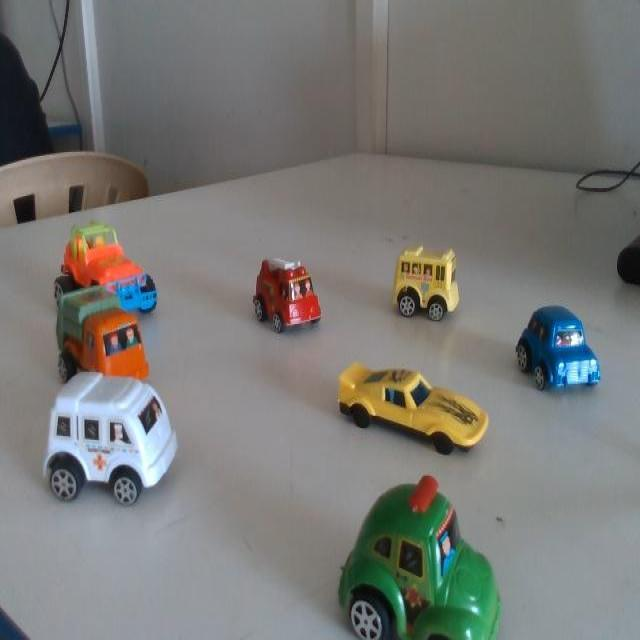car: (51, 349, 199, 532), (359, 489, 509, 639), (352, 351, 480, 468), (84, 217, 165, 320), (385, 240, 470, 338), (248, 244, 323, 351), (76, 278, 141, 394), (530, 303, 602, 397)
